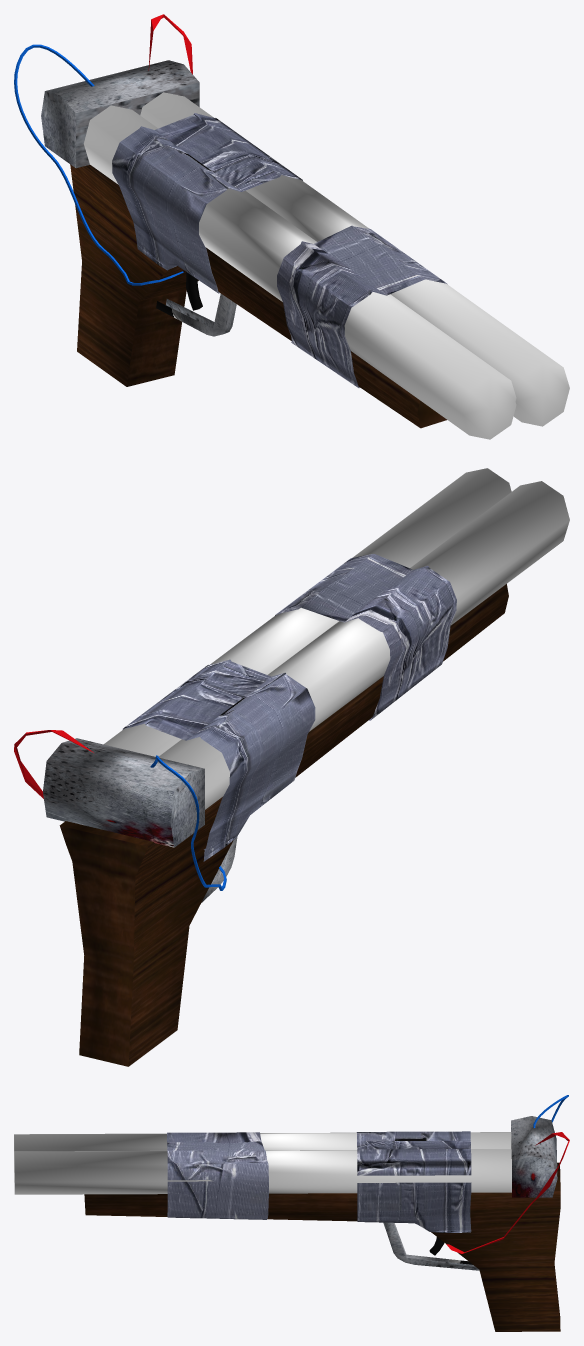
File: testgun1.glb
3 views of the same model, one above another, from view 1: azimuth 30°, elevation 25°; view 2: azimuth 150°, elevation 25°; view 3: azimuth 270°, elevation 25° (orthographic). The views are drawn at different scales.
Parts seen in each view (by area): view 1: Cube.025; view 2: Cube.025; view 3: Cube.025.
Part boxes in pixels (x1=…): Cube.025: x1=14, y1=14, x2=569, y2=439; Cube.025: x1=14, y1=468, x2=569, y2=1066; Cube.025: x1=14, y1=1095, x2=569, y2=1331.
Size of the model in its own units: 0.8353 by 1.4 by 3.39.
8 materials, 4 textured.
